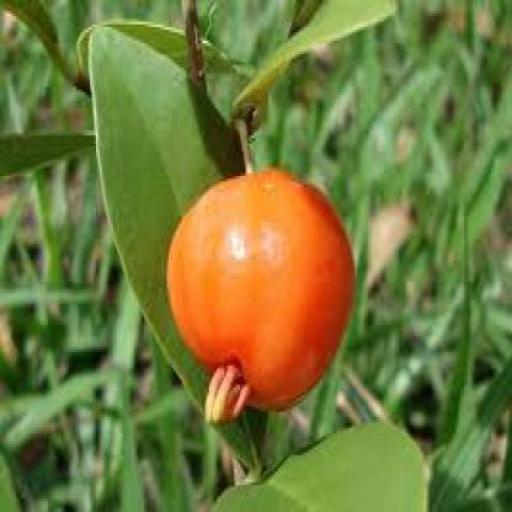biodegradable: (161, 162, 353, 434)
